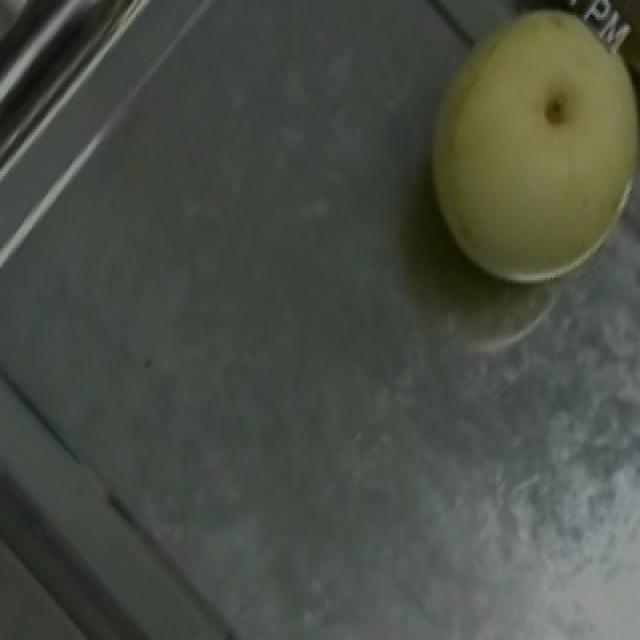Fruit: (380, 0, 640, 318)
